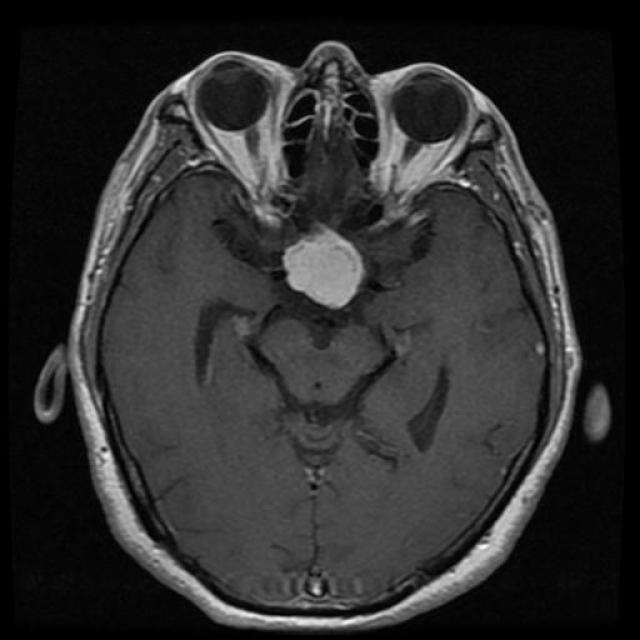meningioma: (284, 230, 364, 310)
